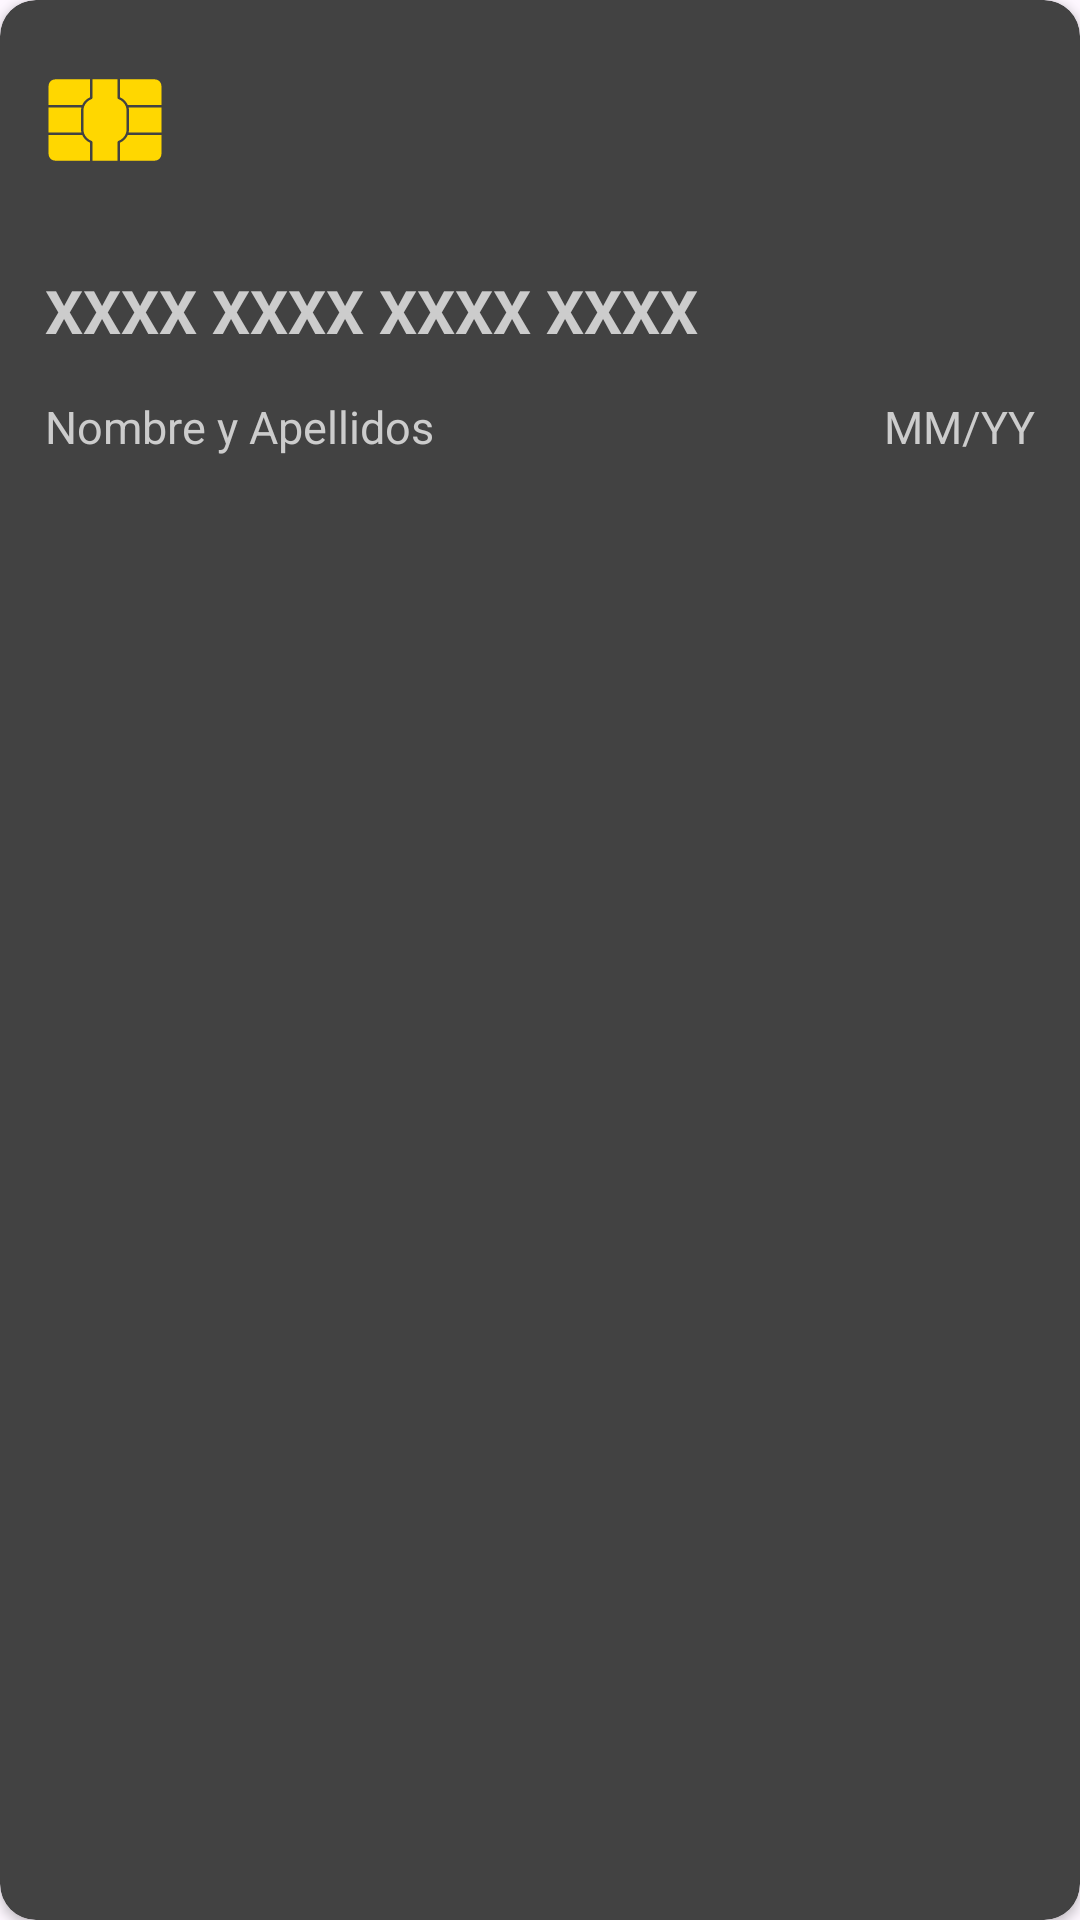

Point at icon controls on the screen. Image size 1080*1920, points as (x=x, y=y).
chip card: (x=105, y=120)
